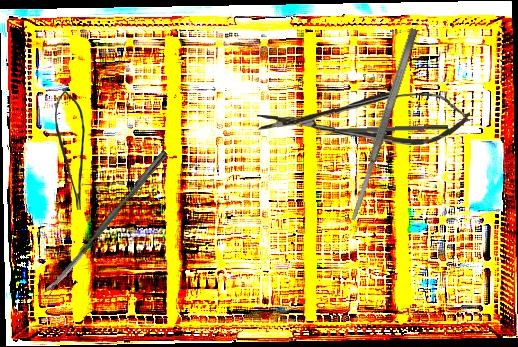Hook Surgical: (313, 123, 449, 135)
Micro Scissor: (256, 90, 471, 146), (54, 91, 85, 210)
Spatula Surgical: (347, 27, 420, 222)
Surgical Spoon: (40, 149, 169, 299)
